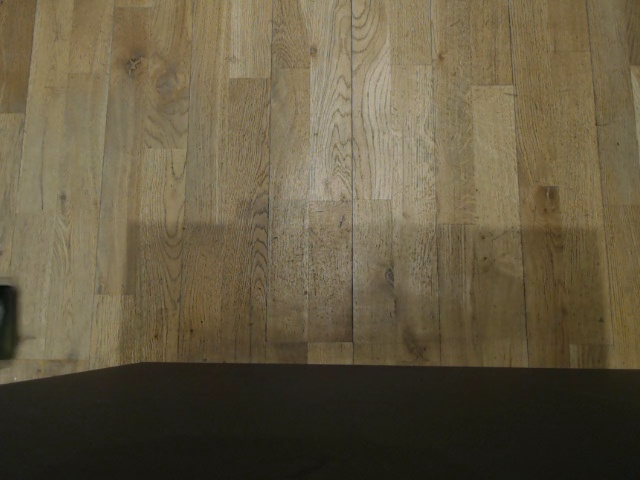beer: (541, 90, 600, 181), (444, 327, 545, 369), (137, 321, 228, 365)
